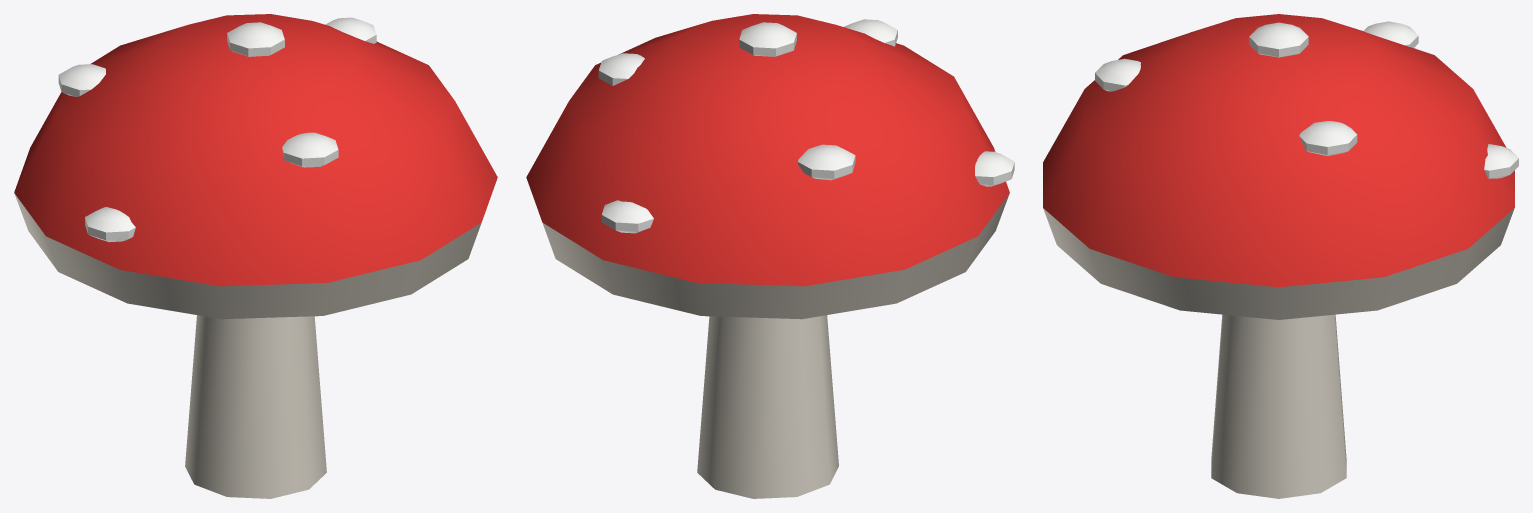
Rendered from BigMushroom.fbx.
3 renders of one model, left to right at view 1: azimuth 30°, elevation 25°; view 2: azimuth 150°, elevation 25°; view 3: azimuth 270°, elevation 25°, orthographic.
Visible parts, largest first — view 1: BigMushroom; view 2: BigMushroom; view 3: BigMushroom.
Part boxes in pixels (x1,y1,x2,y2): BigMushroom: [14, 14, 497, 498]; BigMushroom: [526, 14, 1014, 498]; BigMushroom: [1043, 14, 1518, 498].
Bounding box in the file's own units: 3.4 × 3.42 × 3.34.
1 material, 1 textured.
